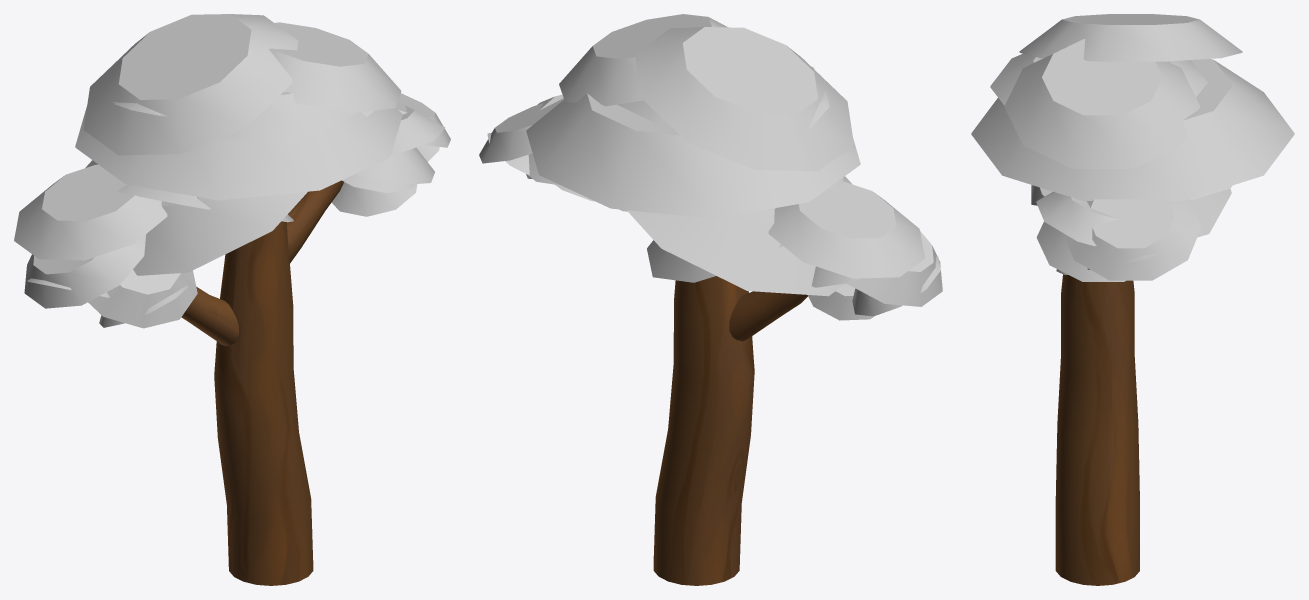
The model's file is arbre haut.fbx.
The picture shows the model from 3 angles, left to right: view 1: azimuth 30°, elevation 25°; view 2: azimuth 150°, elevation 25°; view 3: azimuth 270°, elevation 25°; orthographic projection. The views are drawn at different scales.
Visible parts, largest first — view 1: Sphere002; view 2: Sphere002; view 3: Sphere002.
Boxes of the visible parts, bbox=[...] form: Sphere002: bbox=[14, 14, 450, 585]; Sphere002: bbox=[479, 14, 942, 585]; Sphere002: bbox=[971, 14, 1294, 585].
Bounding box in the file's own units: 66.04 × 80.68 × 44.13.
